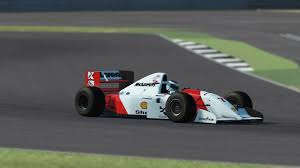FormulaOneCar: (70, 61, 267, 130)
